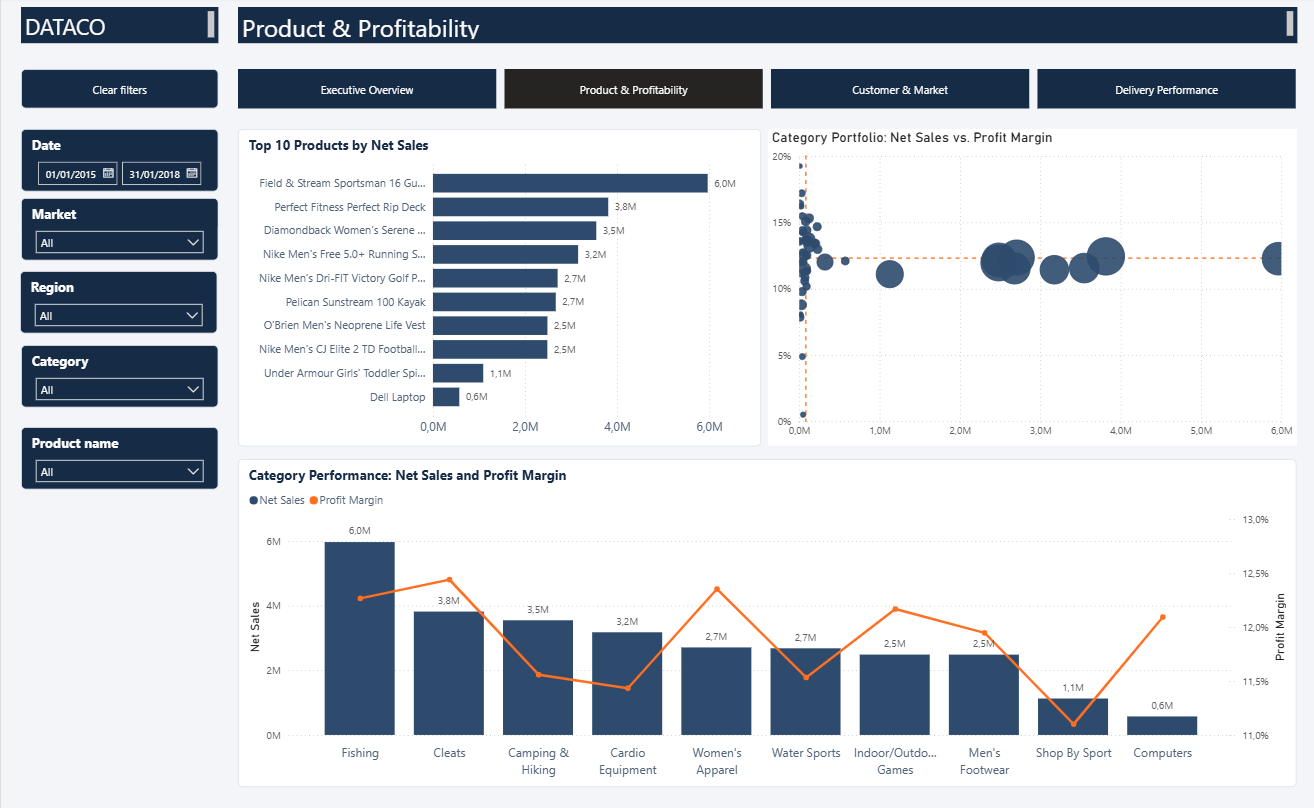

Layout of this report page (visuals, bound fields, positions):
{"tool":"powerbi","page":{"name":"Product & Profitability","canvas":[1600,1000],"ordinal":1},"visuals":[{"type":"textbox","box":[24,12,240,44],"z":0},{"type":"textbox","box":[288,12,1288,44],"z":1000},{"type":"actionButton","box":[24,88,240,48],"z":2000},{"type":"pageNavigator","box":[288,88,1288,48],"z":3000},{"type":"slicer","title":"Date","fields":{"Values":["DimDate.Date"]},"box":[24,160,240,76],"z":4000},{"type":"lineClusteredColumnComboChart","title":"Category Performance: Net Sales and Profit Margin","fields":{"Category":["DimProduct.category_name"],"Y":["FactOrderItem.Net Sales (Item)"],"Y2":["FactOrderItem.Profit Margin % (Item)"]},"box":[288.4,561.6,1287.2,398.8],"z":5000},{"type":"slicer","title":"Market","fields":{"Values":["DimGeography.market"]},"box":[24.6,244.4,240,76],"z":6000},{"type":"slicer","title":"Region","fields":{"Values":["DimGeography.order_region"]},"box":[23.3,332.8,240,76],"z":7000},{"type":"barChart","title":"Top 10 Products by Net Sales","fields":{"Category":["DimProduct.product_name"],"Y":["FactOrderItem.Net Sales (Item)"]},"box":[288.4,160.5,636,386],"z":10000},{"type":"slicer","title":"Category","fields":{"Values":["DimProduct.category_name"]},"box":[24.6,423.6,240,76],"z":12000},{"type":"slicer","title":"Product name","fields":{"Values":["DimProduct.product_name"]},"box":[24.6,523.1,240,76],"z":13000},{"type":"scatterChart","title":"Category Portfolio: Net Sales vs. Profit Margin","fields":{"Category":["DimProduct.category_name"],"Size":["FactOrderItem.Orders Containing Product"],"X":["FactOrderItem.Net Sales (Item)"],"Y":["FactOrderItem.Profit Margin % (Item)"]},"box":[932.5,160.5,643.2,385.4],"z":14000}]}

Visuals, with their boxes in screenshot pixels (x1, y1, x2, y2), scaled from the page's 1600x1000 canvas onto the 1314x808 screenshot:
textbox: <region>20, 10, 217, 45</region>
textbox: <region>237, 10, 1294, 45</region>
actionButton: <region>20, 71, 217, 110</region>
pageNavigator: <region>237, 71, 1294, 110</region>
"Date" slicer: <region>20, 129, 217, 191</region>
"Category Performance: Net Sales and Profit Margin" lineClusteredColumnComboChart: <region>237, 454, 1294, 776</region>
"Market" slicer: <region>20, 197, 217, 259</region>
"Region" slicer: <region>19, 269, 216, 330</region>
"Top 10 Products by Net Sales" barChart: <region>237, 130, 759, 442</region>
"Category" slicer: <region>20, 342, 217, 404</region>
"Product name" slicer: <region>20, 423, 217, 484</region>
"Category Portfolio: Net Sales vs. Profit Margin" scatterChart: <region>766, 130, 1294, 441</region>
